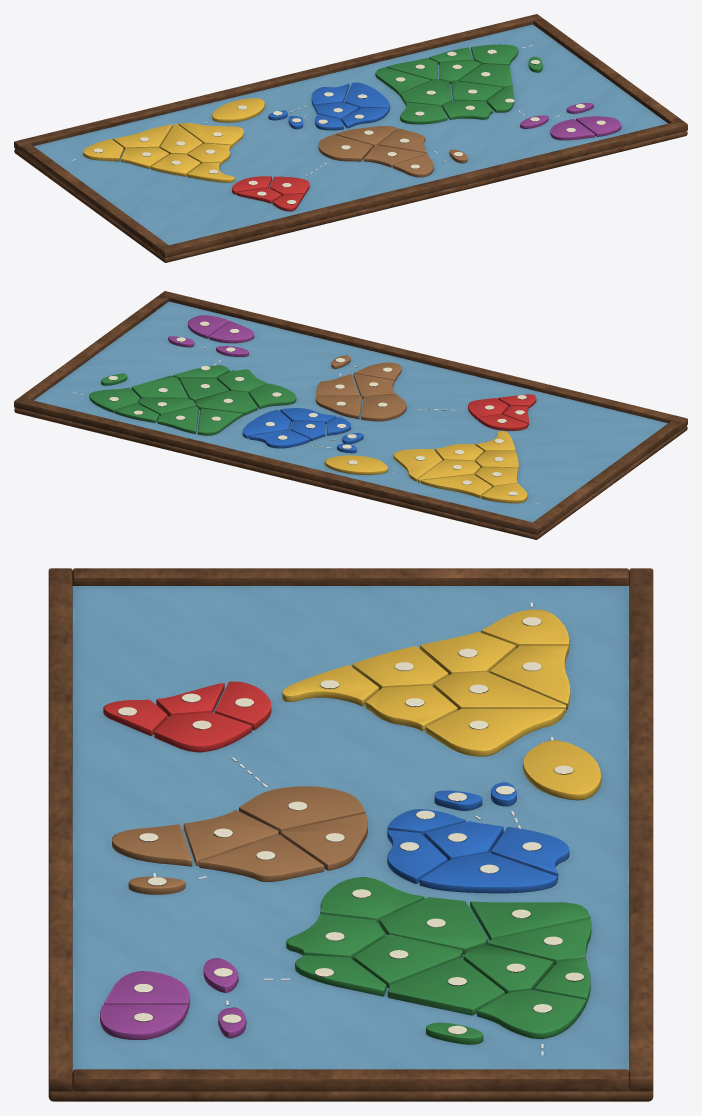
The picture shows the model from 3 angles, top to bottom: view 1: azimuth 30°, elevation 25°; view 2: azimuth 150°, elevation 25°; view 3: azimuth 270°, elevation 25°; orthographic projection. The views are drawn at different scales.
Parts seen in each view (by area): view 1: Ocean, FrameRail_S, FrameRail_N, Board, FrameRail_W, FrameRail_E, Territory_NorthAfrica, Territory_Afghanistan, Territory_Quebec, Territory_Greenland, Territory_Mongolia, Territory_Kamchatka (+29 smaller); view 2: Ocean, FrameRail_N, FrameRail_S, Board, FrameRail_W, FrameRail_E, Territory_NorthAfrica, Territory_Afghanistan, Territory_Quebec, Territory_Greenland, Territory_NorthwestTerritory, Territory_Mongolia (+27 smaller); view 3: Ocean, FrameRail_N, FrameRail_S, FrameRail_E, FrameRail_W, Board, Territory_Quebec, Territory_Mongolia, Territory_Ukraine, Territory_NorthAfrica, Territory_Afghanistan, Territory_Kamchatka (+34 smaller).
Boxes of the visible parts, x1,y1,x2,y2 form: Ocean: [34, 24, 667, 245]; FrameRail_S: [159, 120, 687, 257]; FrameRail_N: [14, 14, 542, 151]; Board: [14, 131, 687, 262]; FrameRail_W: [20, 143, 168, 253]; FrameRail_E: [533, 18, 681, 123]; Territory_NorthAfrica: [318, 134, 372, 161]; Territory_Afghanistan: [400, 79, 451, 107]; Territory_Quebec: [178, 123, 243, 147]; Territory_Greenland: [212, 98, 264, 122]; Territory_Mongolia: [459, 64, 512, 88]; Territory_Kamchatka: [471, 44, 518, 65]; Ocean: [34, 301, 667, 522]; FrameRail_N: [14, 397, 542, 534]; FrameRail_S: [159, 291, 687, 428]; Board: [14, 408, 687, 539]; FrameRail_W: [533, 420, 681, 530]; FrameRail_E: [20, 295, 168, 400]; Territory_NorthAfrica: [361, 394, 406, 421]; Territory_Afghanistan: [195, 390, 257, 415]; Territory_Quebec: [393, 448, 442, 481]; Territory_Greenland: [324, 455, 387, 474]; Territory_NorthwestTerritory: [421, 474, 492, 497]; Territory_Mongolia: [131, 375, 187, 398]; Ocean: [72, 586, 629, 1071]; FrameRail_N: [629, 568, 653, 1091]; FrameRail_S: [48, 568, 72, 1091]; FrameRail_E: [72, 1069, 629, 1091]; FrameRail_W: [72, 568, 629, 585]; Board: [48, 1089, 653, 1101]; Territory_Quebec: [425, 709, 564, 756]; Territory_Mongolia: [387, 958, 504, 1015]; Territory_Ukraine: [419, 852, 557, 893]; Territory_NorthAfrica: [239, 786, 365, 835]; Territory_Afghanistan: [379, 897, 488, 954]; Territory_Kamchatka: [477, 990, 586, 1038].
Bounding box in the file's own units: 2 × 0.045 × 1.
Materials: 1 (1 with a texture image).
